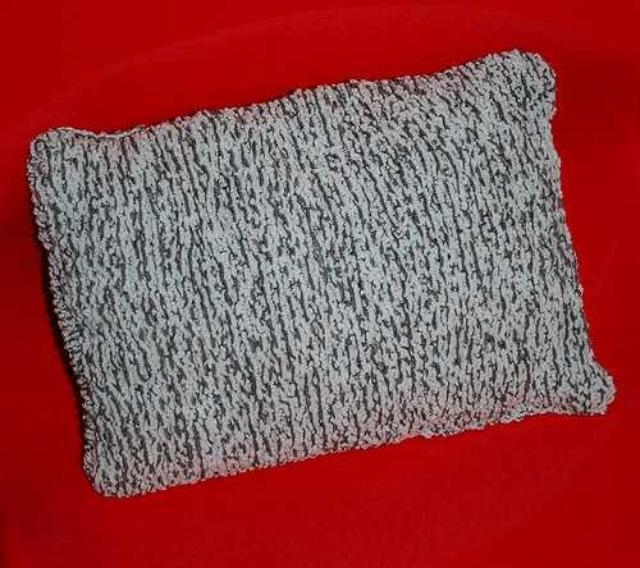pillow: (25, 47, 617, 500)
